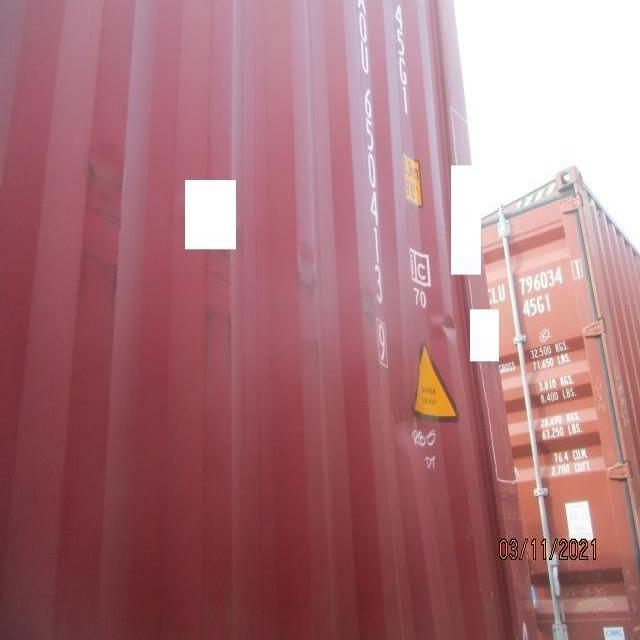Dent: (360, 304, 464, 484)
